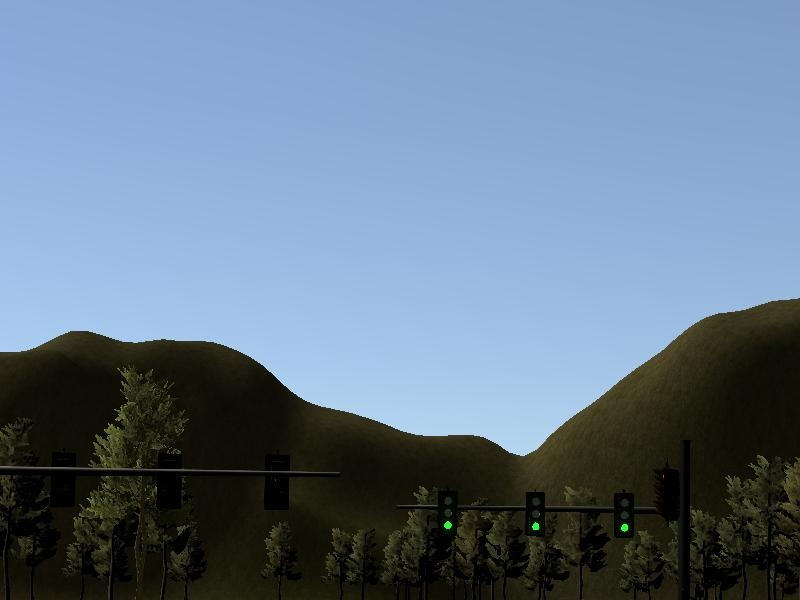GREEN: (519, 487, 552, 542), (431, 487, 464, 541), (608, 485, 639, 542)
